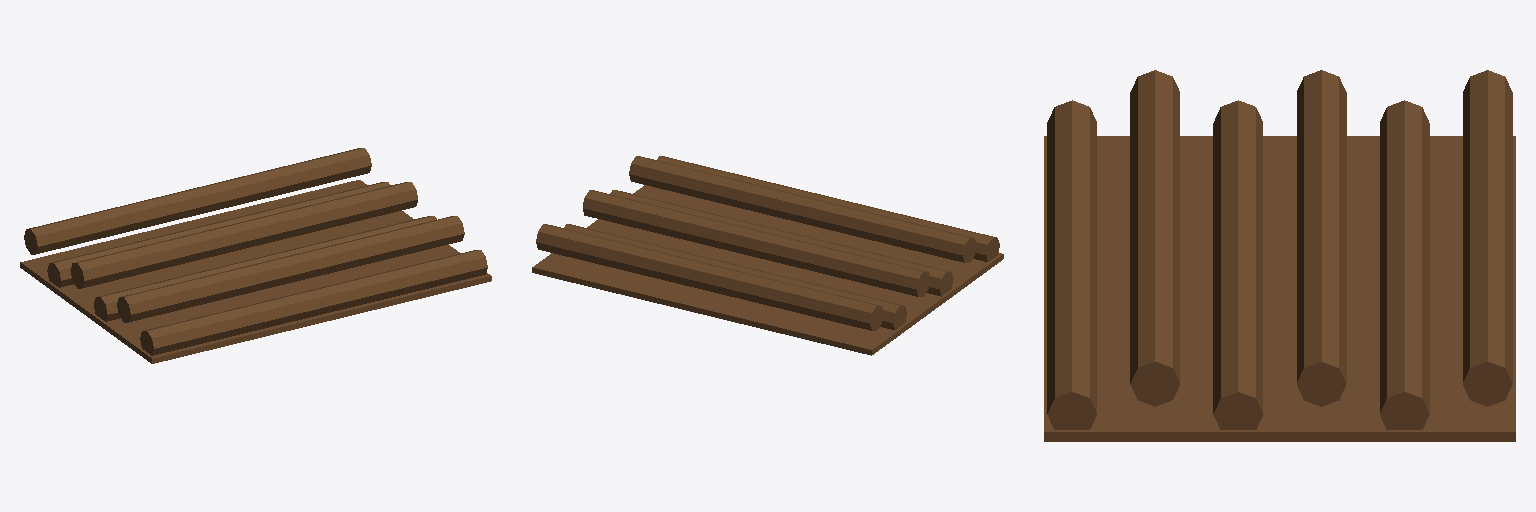
The robot description file, URDF, robot "nova_environment_object_0304":
<?xml version="1.0" encoding="utf-8"?>
<!-- Nova movable environment body for the bundled PyBullet launcher. SI metres/kg/radians. Loaded at its body origin; hinge/slider bodies use a fixed world_anchor base with one passive joint. Inertia is about COM. -->
<robot name="nova_environment_object_0304">
  <link name="body">
    <inertial>
      <origin xyz="0 0 0.008" rpy="0 0 0" />
      <mass value="0.024" />
      <inertia ixx="1.69528889e-05" iyy="3.6424e-05" izz="5.23528889e-05" ixy="0" ixz="0" iyz="0" />
    </inertial>
    <visual>
      <origin xyz="0 0 0" rpy="0 0 0" />
      <geometry>
        <mesh filename="object_0304.obj" />
      </geometry>
      <material name="surface">
        <color rgba="0.48 0.35 0.23 1" />
      </material>
    </visual>
    <collision>
      <origin xyz="0 0 0" rpy="0 0 0" />
      <geometry>
        <mesh filename="object_0304_collision_00.obj" />
      </geometry>
    </collision>
  </link>
</robot>

--- Render facts (derived) ---
3 views of the same robot in one strip: view 1: azimuth 30°, elevation 25°; view 2: azimuth 150°, elevation 25°; view 3: azimuth 270°, elevation 25° (orthographic).
Model nova_environment_object_0304 with 1 links and 0 joints (none), rooted at body, posed all joints at 0.
Links seen in each view (by area): view 1: body; view 2: body; view 3: body.
Link boxes in pixels (x1=…): body: x1=20, y1=148, x2=491, y2=363; body: x1=532, y1=156, x2=1003, y2=355; body: x1=1044, y1=70, x2=1515, y2=441.
Size in the robot's own frame: 0.126 by 0.0847 by 0.0155 metres.
Meshes: 1 distinct files referenced, 1 mesh visuals loaded (1 OBJ).
